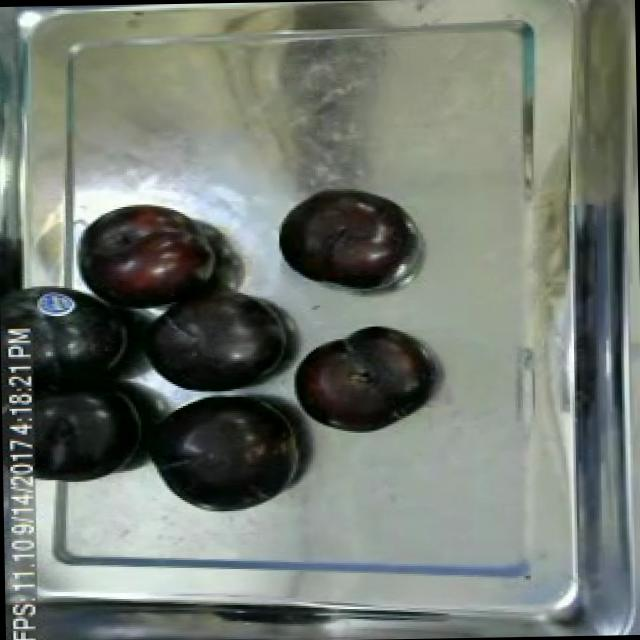Fruit: (133, 388, 306, 518), (129, 270, 299, 402), (72, 194, 226, 318), (283, 318, 437, 441), (270, 180, 414, 296)
